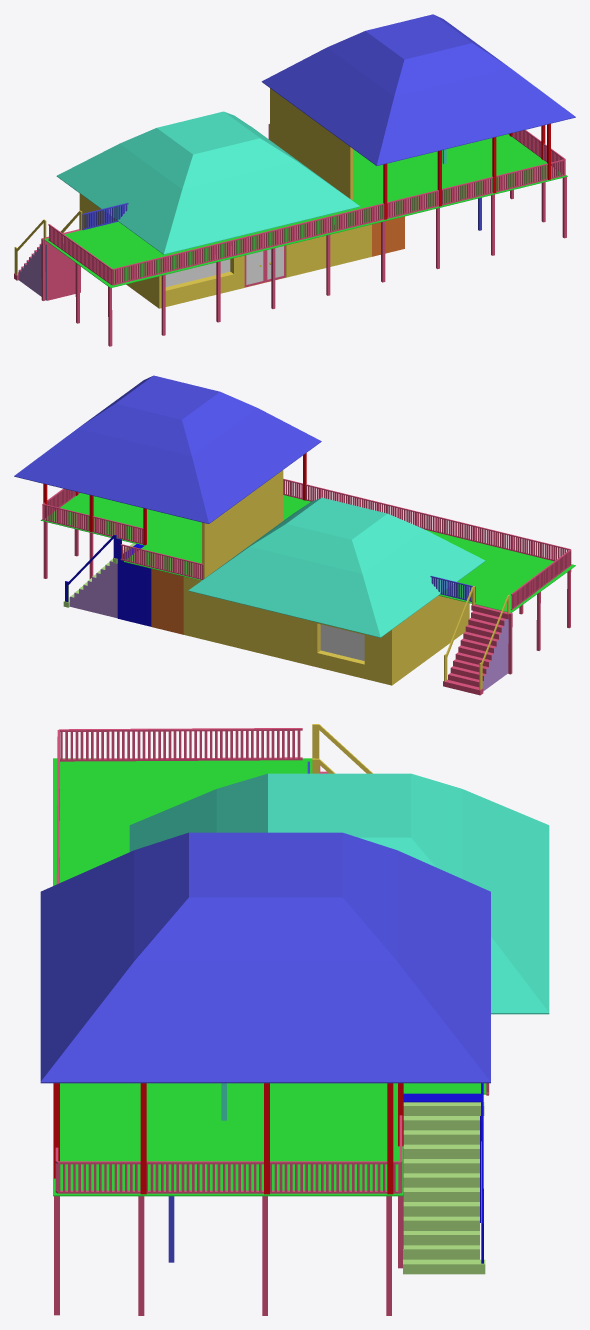
The model's file is Proshop redo.fbx.
3 views of the same model, one above another, from view 1: azimuth 30°, elevation 25°; view 2: azimuth 150°, elevation 25°; view 3: azimuth 270°, elevation 25° (orthographic). The views are drawn at different scales.
Parts seen in each view (by area): view 1: roof, roof .001, Base deck, fance, proshop, Support beam.002, Support beam, stairs.001, proshop.001, Support beam top, bathroom, fance.002; view 2: roof, roof .001, proshop, Base deck, fance, stairs.001, Support beam.002, stairs, ballshed, bathroom, Support beam, fance.001 (+2 smaller); view 3: roof, Base deck, roof .001, fance, stairs, Support beam, Support beam top, ballshed, stairs.001.
Part boxes in pixels (x1,y1,x2,y2): roof: [261, 14, 575, 165]; roof .001: [56, 111, 360, 254]; Base deck: [44, 134, 567, 288]; fance: [48, 130, 565, 285]; proshop: [79, 193, 371, 308]; Support beam.002: [270, 88, 352, 199]; Support beam: [41, 177, 566, 346]; stairs.001: [14, 210, 82, 300]; proshop.001: [244, 245, 285, 287]; Support beam top: [383, 123, 550, 219]; bathroom: [372, 216, 404, 256]; fance.002: [82, 203, 128, 230]; roof: [14, 375, 321, 523]; roof .001: [188, 497, 485, 637]; proshop: [183, 576, 469, 685]; Base deck: [40, 493, 575, 612]; fance: [42, 478, 571, 609]; stairs.001: [443, 586, 509, 695]; Support beam.002: [202, 470, 283, 578]; stairs: [63, 535, 135, 618]; ballshed: [117, 544, 151, 626]; bathroom: [151, 569, 183, 634]; Support beam: [43, 521, 571, 674]; fance.001: [120, 544, 203, 579]; roof: [40, 832, 490, 1083]; Base deck: [53, 758, 489, 1196]; roof .001: [129, 773, 549, 1014]; fance: [55, 728, 402, 1193]; stairs: [403, 1083, 485, 1274]; Support beam: [54, 1146, 403, 1315]; Support beam top: [54, 1083, 403, 1194]; ballshed: [403, 1093, 480, 1222]; stairs.001: [312, 724, 372, 773].
Bounding box in the file's own units: 869 × 331 × 422.
